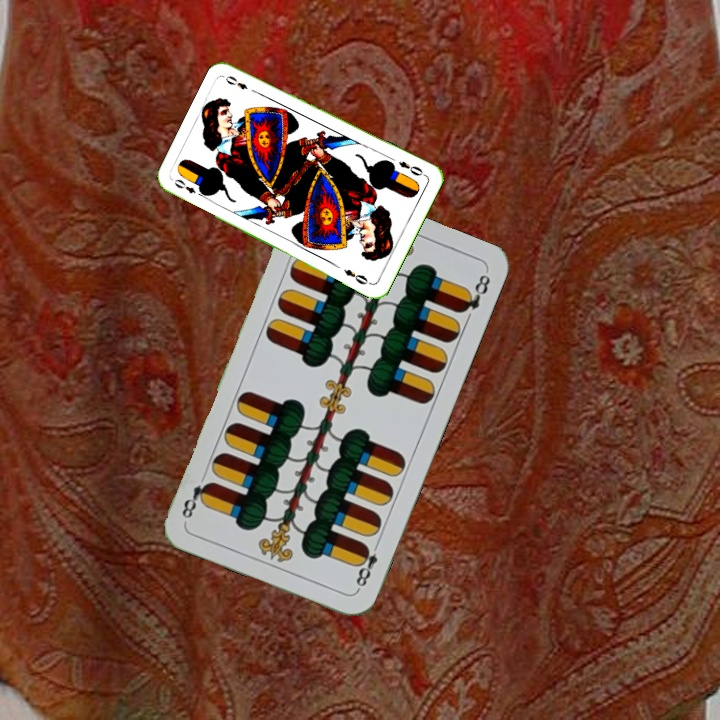E8: (351, 537, 383, 593)
EO: (394, 157, 428, 179), (170, 175, 198, 196)
